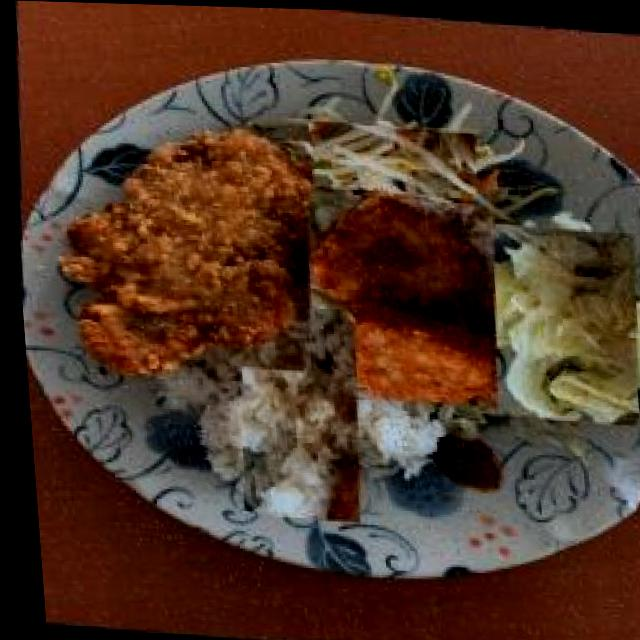chinese_cabbage: (480, 219, 640, 422)
fried_chicken: (65, 116, 319, 372)
mung_bean_sprouts: (307, 120, 479, 199)
rice: (204, 322, 387, 499)
triangle_hash_brown: (296, 190, 503, 407)
